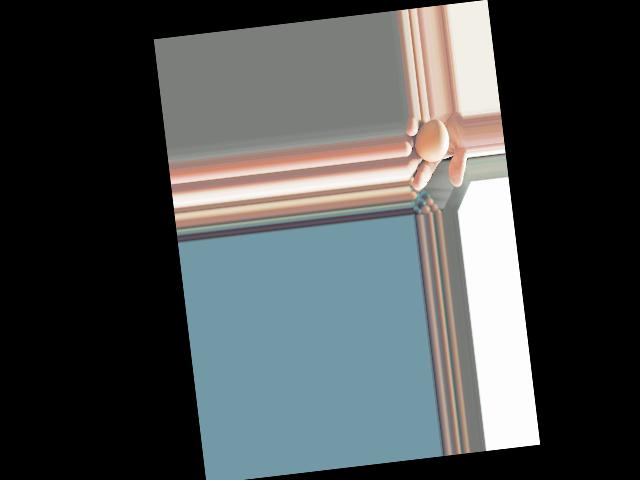egg: (411, 116, 451, 163)
